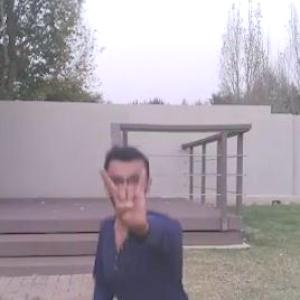takeoff-hand: (99, 159, 160, 235)
